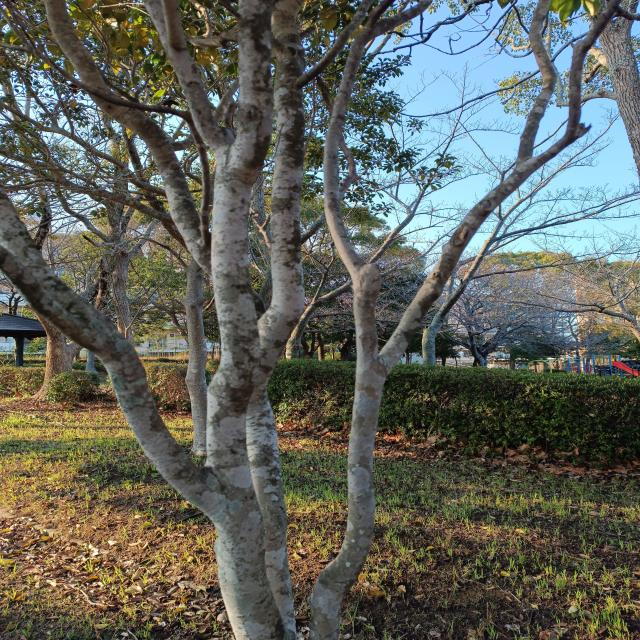Branch: (1, 196, 214, 516), (43, 0, 211, 277), (382, 157, 533, 373), (207, 143, 262, 499), (258, 0, 310, 366), (323, 29, 380, 362), (0, 146, 175, 225), (141, 0, 228, 154), (238, 0, 276, 167)
Twig: (0, 4, 187, 119), (0, 101, 167, 197), (535, 0, 623, 169), (1, 112, 100, 188), (300, 0, 375, 86), (517, 0, 556, 163), (1, 49, 58, 126), (380, 226, 457, 276), (366, 188, 414, 263), (364, 0, 432, 37), (85, 159, 137, 201), (48, 64, 75, 138), (405, 168, 436, 215), (423, 173, 482, 197), (164, 1, 186, 49), (1, 167, 63, 183), (365, 0, 396, 31), (1, 177, 58, 190), (414, 208, 470, 216), (426, 213, 462, 221)
